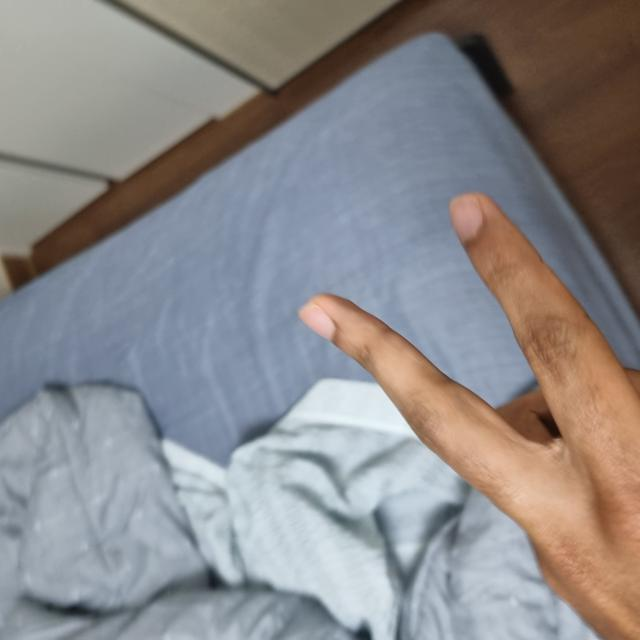Scissors: (1, 302, 448, 638)
